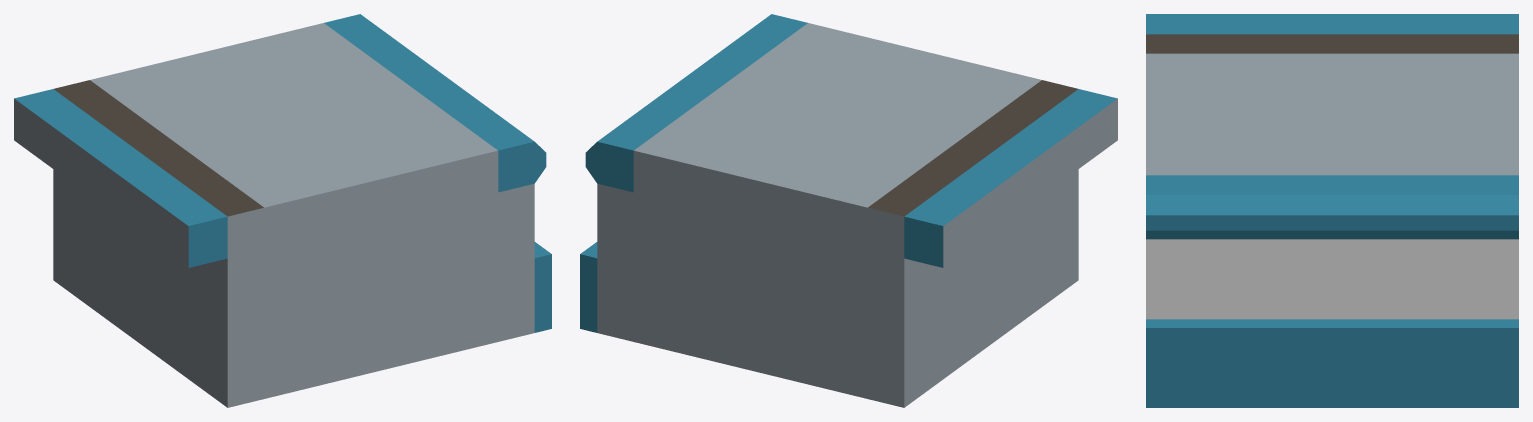
File: 3D_workstation_counter.fbx
The picture shows the model from 3 angles, left to right: view 1: azimuth 30°, elevation 25°; view 2: azimuth 150°, elevation 25°; view 3: azimuth 270°, elevation 25°; orthographic projection. The views are drawn at different scales.
Parts seen in each view (by area): view 1: 3D_workstation_counter_table; view 2: 3D_workstation_counter_table; view 3: 3D_workstation_counter_table.
Part boxes in pixels (bbox=[...]): 3D_workstation_counter_table: bbox=[14, 14, 551, 407]; 3D_workstation_counter_table: bbox=[580, 14, 1117, 407]; 3D_workstation_counter_table: bbox=[1146, 14, 1518, 407].
Size of the model in its own units: 117 by 58.63 by 96.89.
